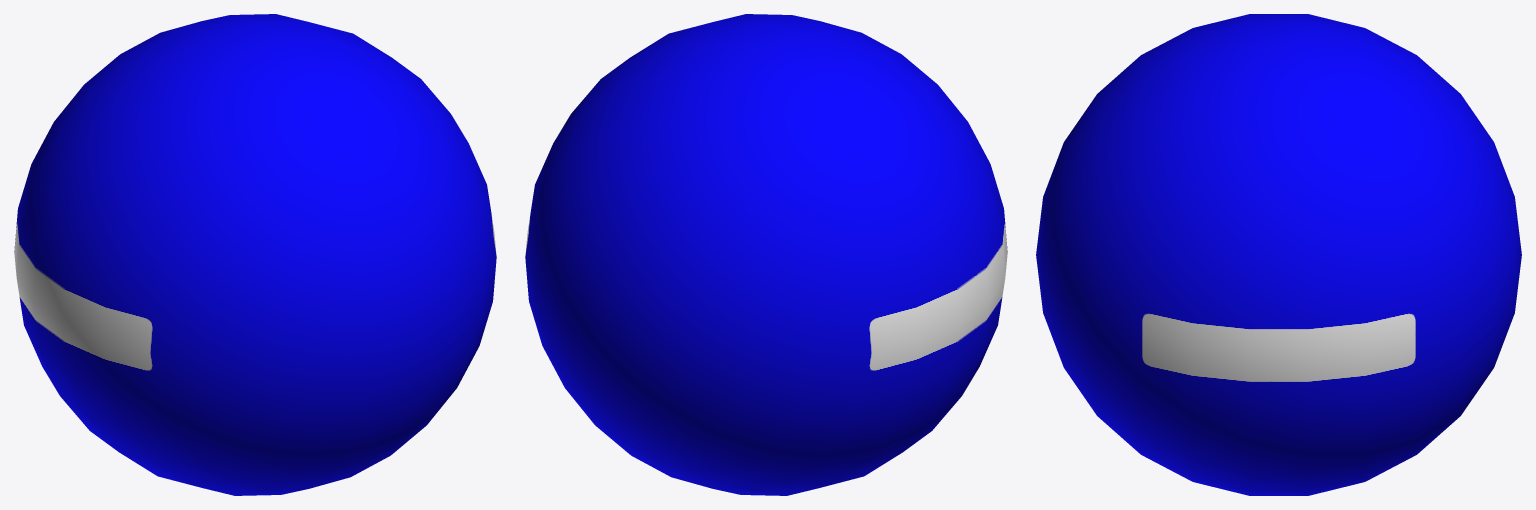
Rendered from Elektron.FBX.
3 views of the same model, side by side, from view 1: azimuth 30°, elevation 25°; view 2: azimuth 150°, elevation 25°; view 3: azimuth 270°, elevation 25° (orthographic).
Visible parts, largest first — view 1: Sphere001; view 2: Sphere001; view 3: Sphere001.
Boxes of the visible parts, bbox=[...] form: Sphere001: bbox=[14, 14, 496, 495]; Sphere001: bbox=[525, 14, 1007, 495]; Sphere001: bbox=[1036, 14, 1521, 495].
Bounding box in the file's own units: 54.84 × 54.67 × 55.28.
Materials: 1 (1 with a texture image).
